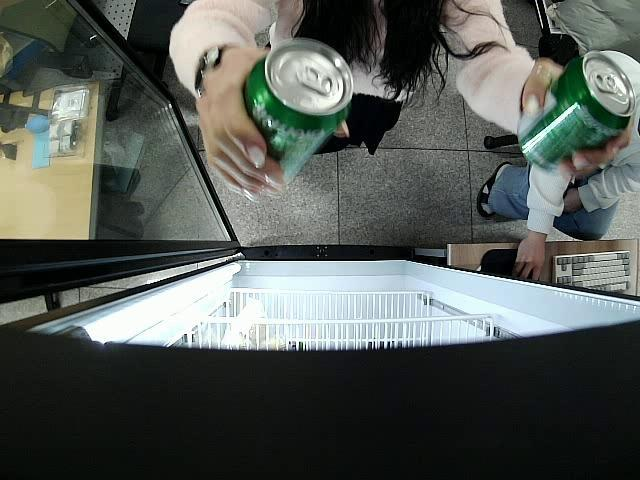12_chilsungCider: (242, 39, 354, 198), (518, 52, 634, 172)
